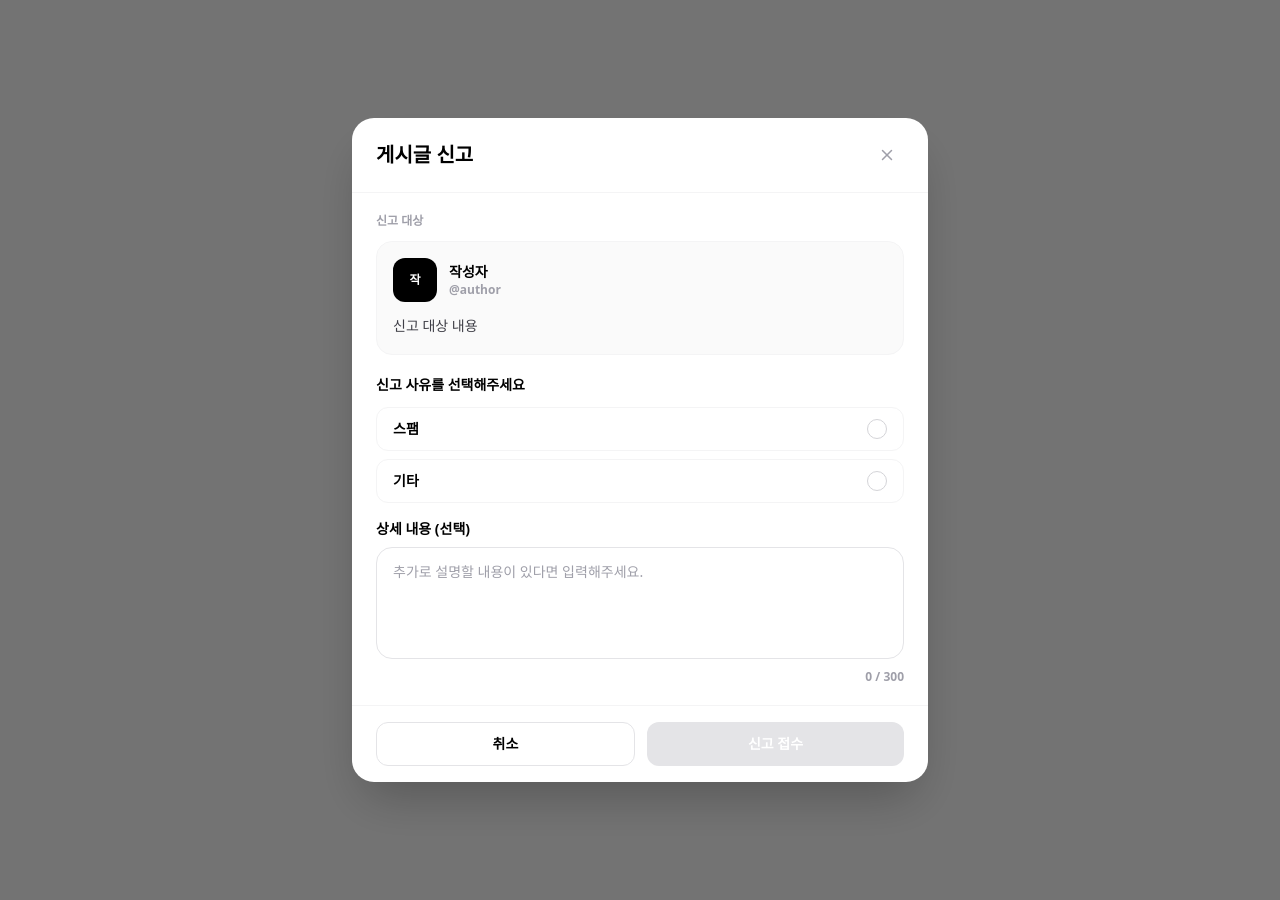
Scenario: ReportContentModal › prevents duplicate submissions while the first request is pending
The image size is (1280, 900).
Click the button "스팸" at {"x": 406, "y": 428}, box [376, 407, 904, 451]
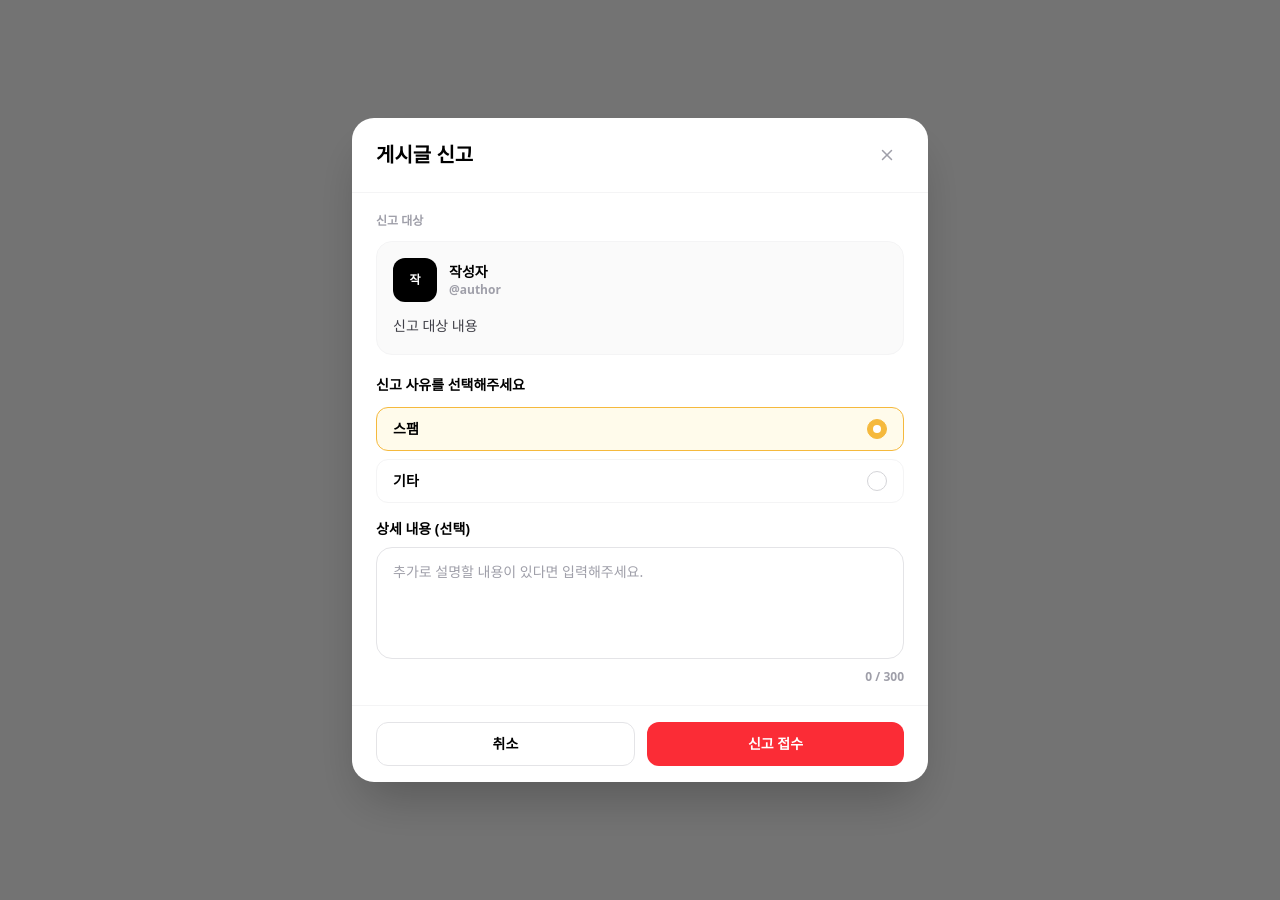
Click the button "신고 접수" at {"x": 776, "y": 744}, box [647, 722, 904, 766]
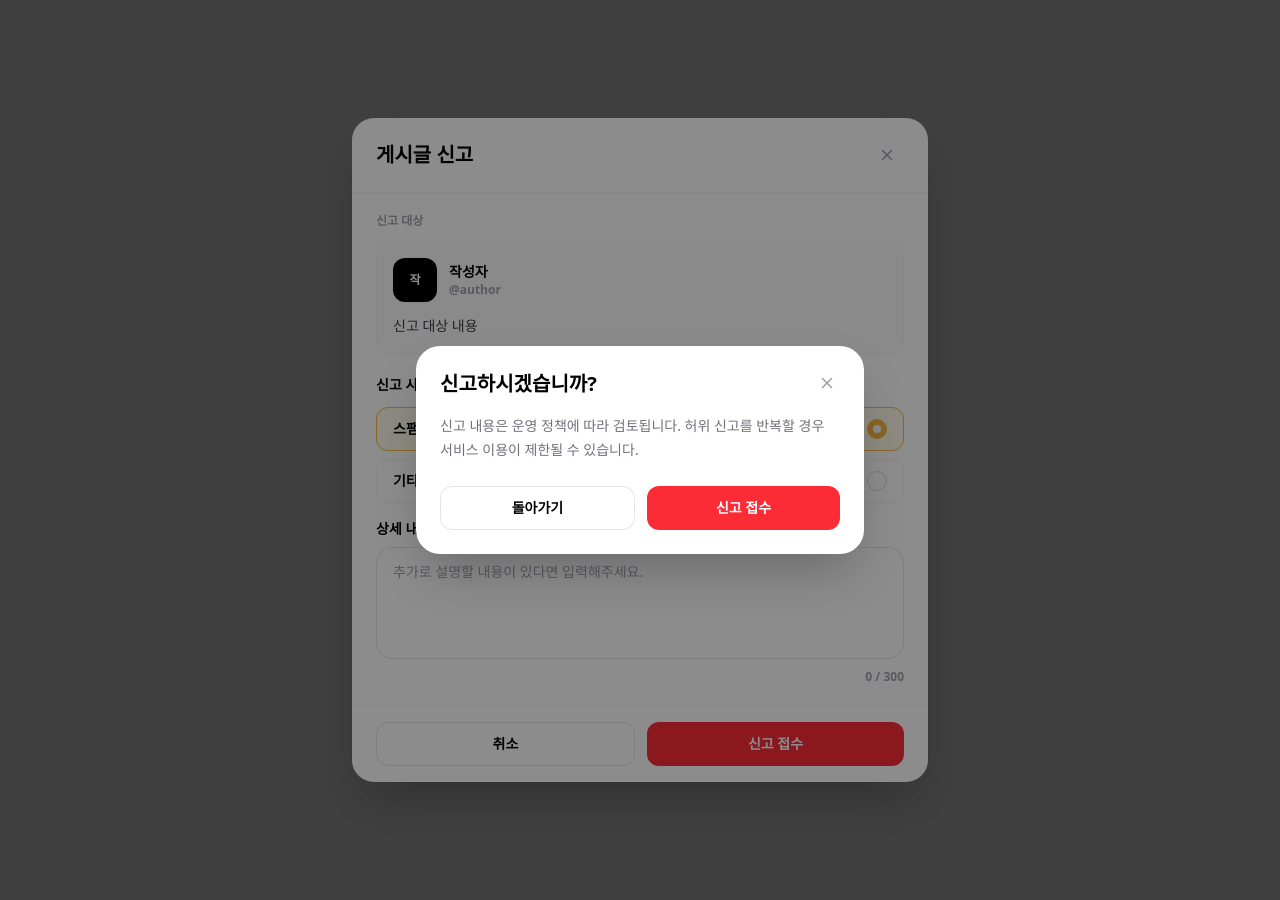
Click the button "신고 접수" at {"x": 744, "y": 508}, box [647, 486, 840, 530]
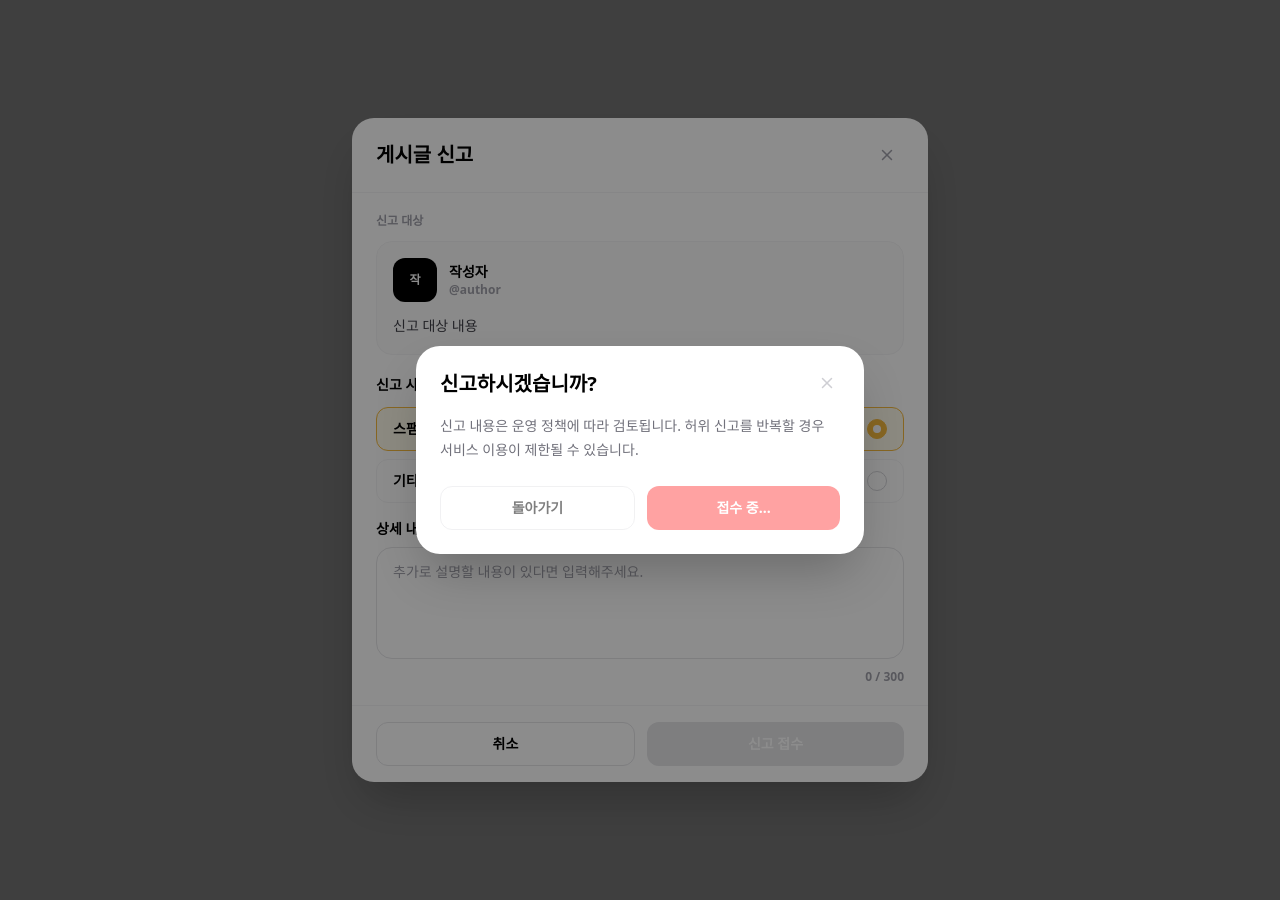
Click the button named "신고 접수" at {"x": 744, "y": 508}, box [647, 486, 840, 530]
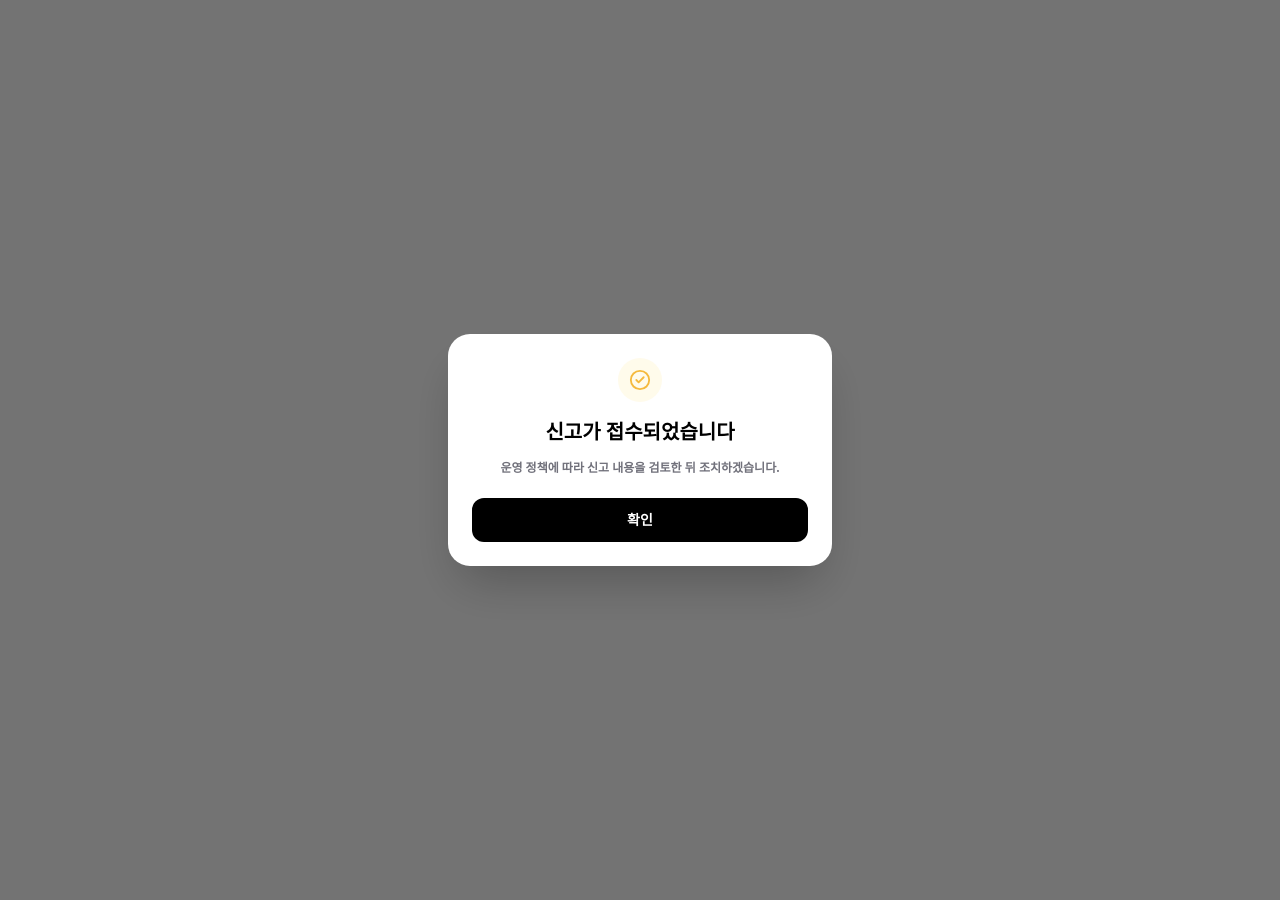
Check: the heading "신고가 접수되었습니다" is shown, box [545, 418, 735, 445]
